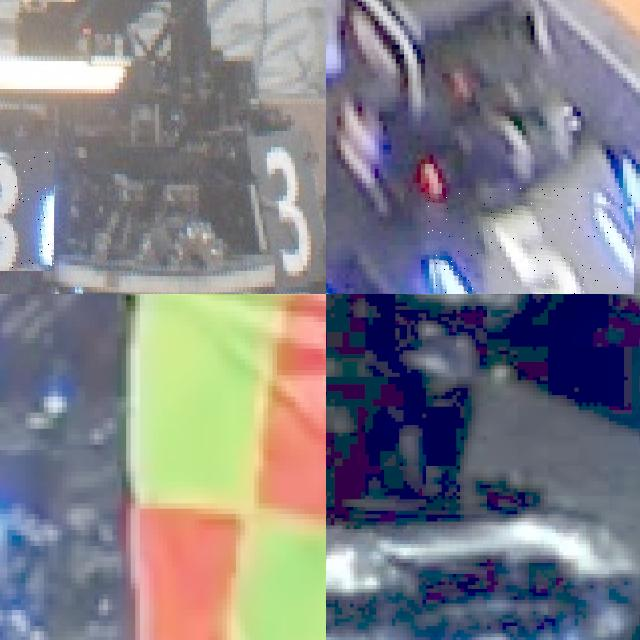B3: (0, 150, 54, 271)
B5: (427, 187, 633, 294)
